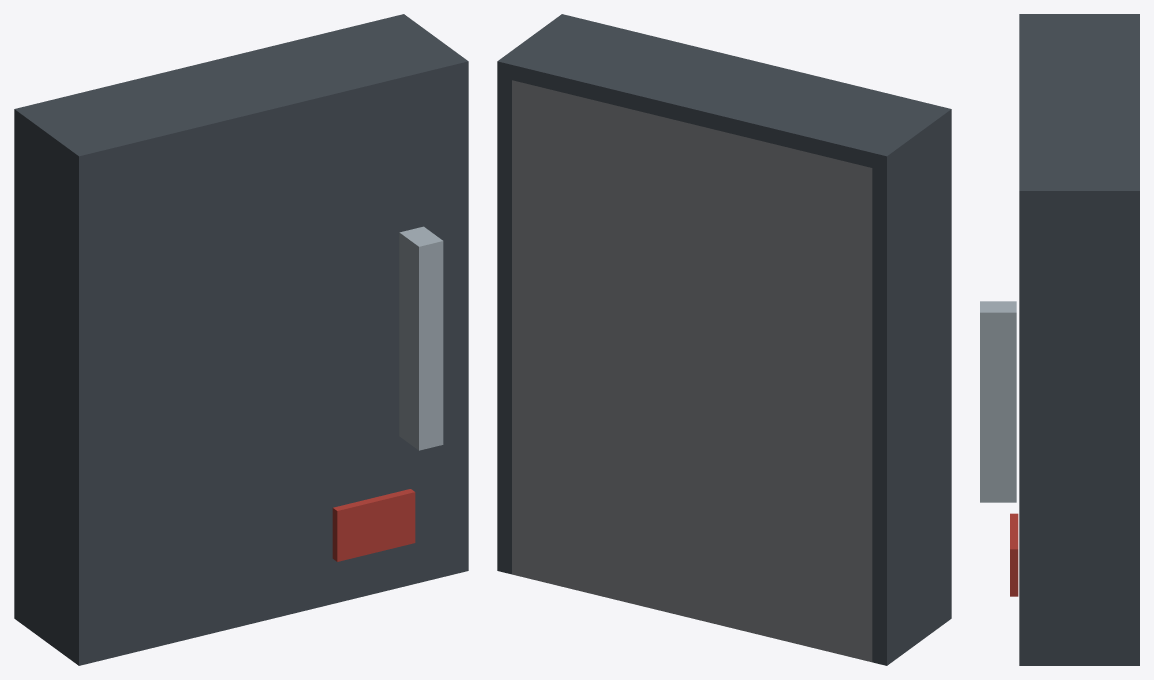
Rendered from GI_FuseBox_01.glb.
3 renders of one model, left to right at view 1: azimuth 30°, elevation 25°; view 2: azimuth 150°, elevation 25°; view 3: azimuth 270°, elevation 25°, orthographic. The views are drawn at different scales.
Visible parts, largest first — view 1: Door, GI_FuseBox_01; view 2: GI_FuseBox_01, Door; view 3: GI_FuseBox_01, Door.
Part boxes in pixels (<box>): Door: <box>70,55,468,665</box>; GI_FuseBox_01: <box>14,14,459,659</box>; GI_FuseBox_01: <box>497,20,943,665</box>; Door: <box>554,14,951,624</box>; GI_FuseBox_01: <box>1035,14,1139,665</box>; Door: <box>980,14,1034,665</box>.
Bounding box in the file's own units: 0.4 × 0.5 × 0.1525.
Materials: 1 (1 with a texture image).
